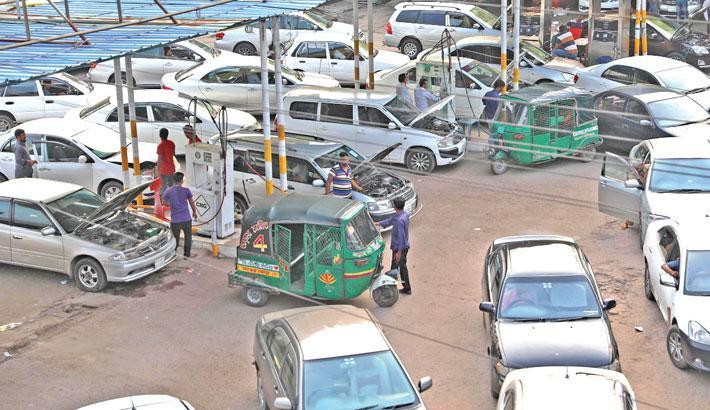car: (242, 299, 435, 410), (0, 176, 176, 297), (485, 234, 623, 381), (210, 133, 425, 223), (282, 89, 468, 178), (0, 113, 182, 202), (68, 84, 263, 155), (601, 137, 710, 243), (161, 53, 341, 115), (640, 218, 710, 376), (495, 86, 605, 177), (375, 59, 536, 120), (88, 34, 250, 90), (565, 9, 710, 69), (431, 33, 589, 88), (598, 84, 710, 159), (573, 52, 710, 113), (0, 68, 114, 137), (383, 1, 511, 57), (215, 8, 360, 57), (278, 36, 412, 88), (492, 369, 640, 410)
cng: (239, 193, 413, 310)
